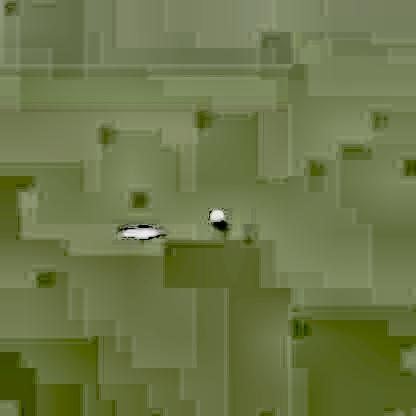golfball: (208, 206, 223, 222)
